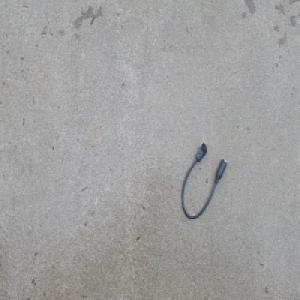Wire: (179, 141, 227, 221)
